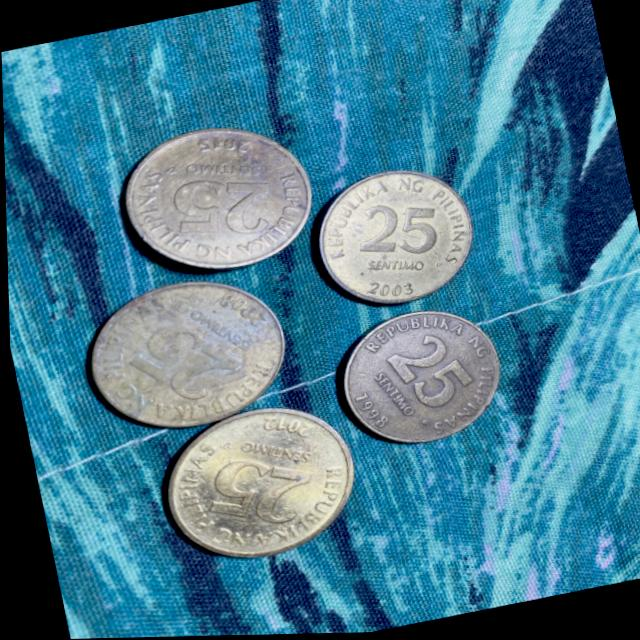25Cent_Old_Front: (129, 318, 237, 409), (200, 448, 314, 533), (165, 167, 276, 245), (387, 332, 484, 419), (354, 196, 443, 262)
